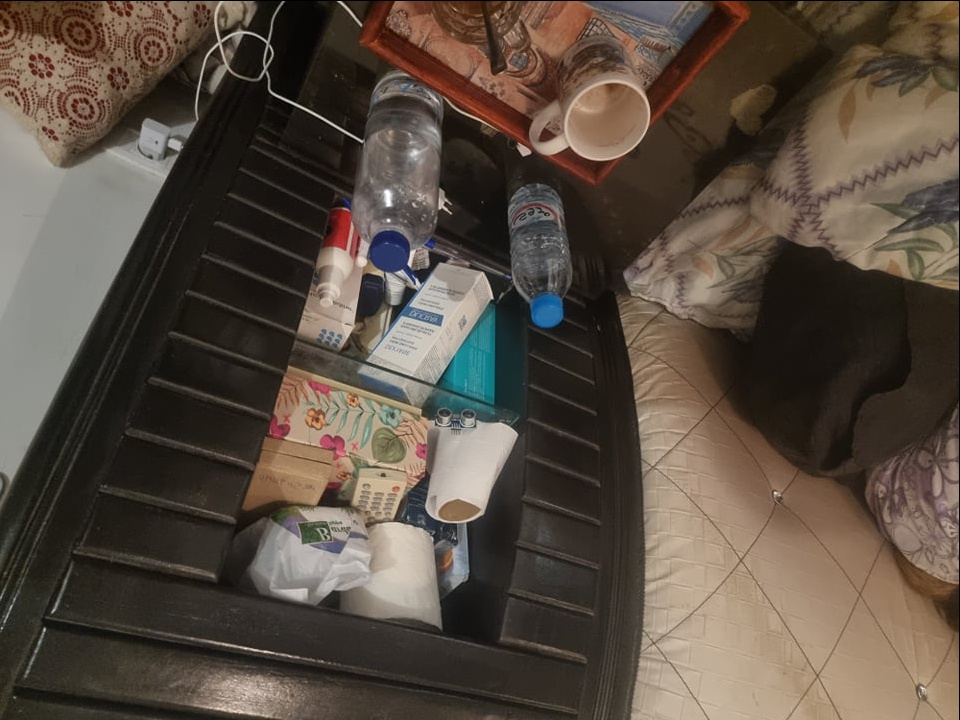SENSOR: (434, 404, 480, 431)
